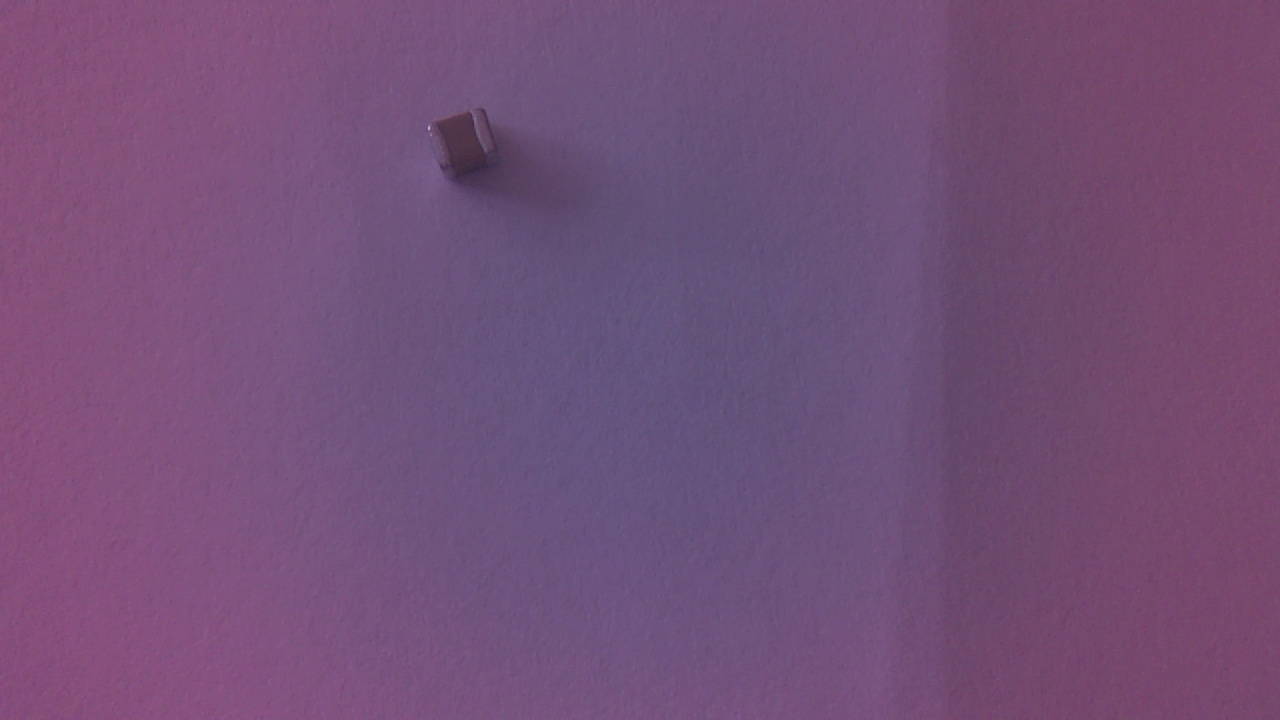Condensator: (426, 106, 507, 185)
